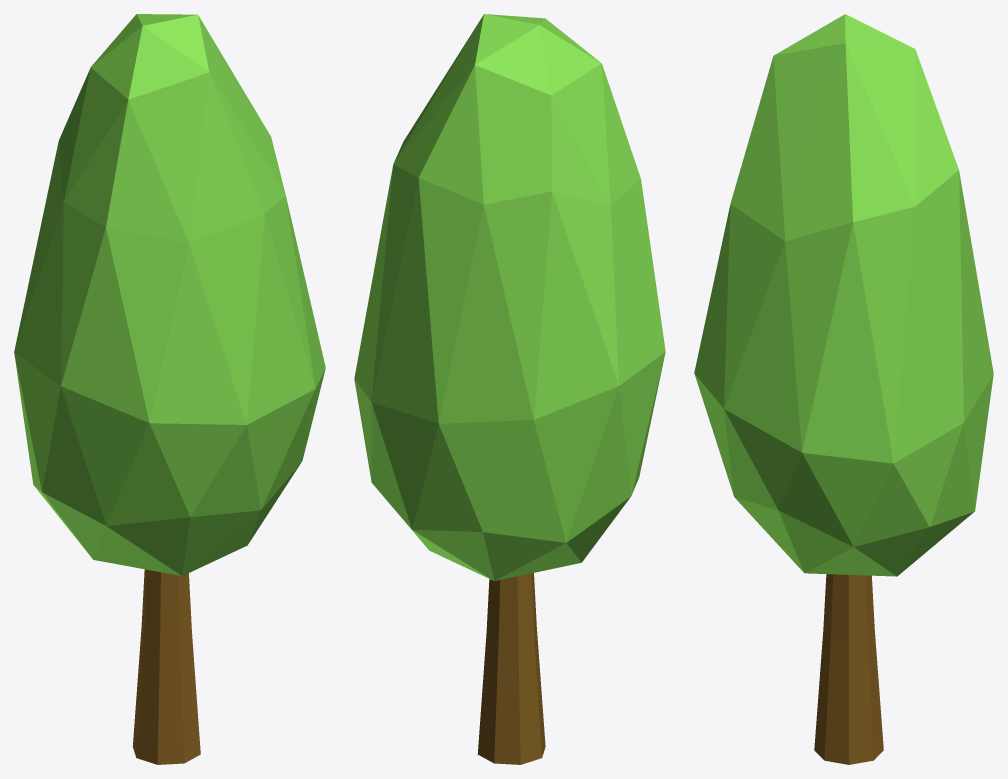
File: Bright Blob Tree.fbx
3 renders of one model, left to right at view 1: azimuth 30°, elevation 25°; view 2: azimuth 150°, elevation 25°; view 3: azimuth 270°, elevation 25°, orthographic.
Visible parts, largest first — view 1: Blob Tree; view 2: Blob Tree; view 3: Blob Tree.
Boxes of the visible parts, <box> form: Blob Tree: <box>14,14,325,764</box>; Blob Tree: <box>354,14,665,764</box>; Blob Tree: <box>694,14,993,764</box>.
Size of the model in its own units: 247 by 652 by 245.
